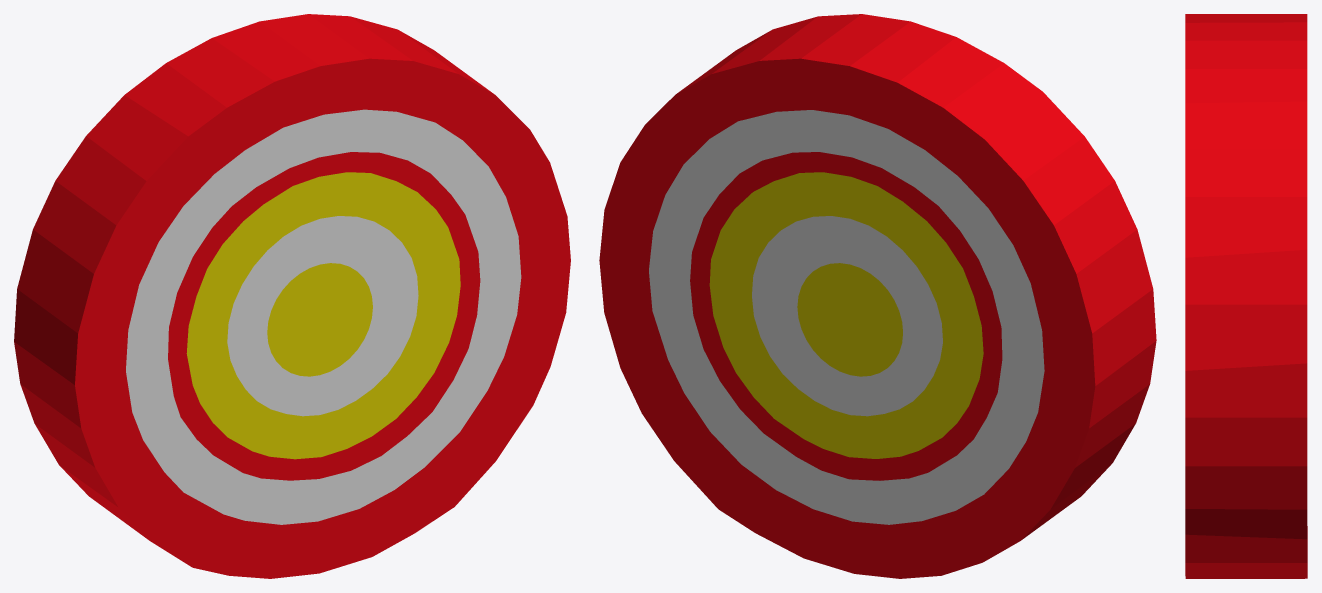
The model's file is mato2-2.fbx.
The picture shows the model from 3 angles, left to right: view 1: azimuth 30°, elevation 25°; view 2: azimuth 150°, elevation 25°; view 3: azimuth 270°, elevation 25°; orthographic projection.
Parts seen in each view (by area): view 1: Cube; view 2: Cube; view 3: Cube.
Part boxes in pixels (box(x1,y1,x2,y2)): Cube: box(14, 14, 570, 578); Cube: box(599, 14, 1156, 578); Cube: box(1185, 14, 1307, 578).
Bounding box in the file's own units: 938 × 916 × 201.
